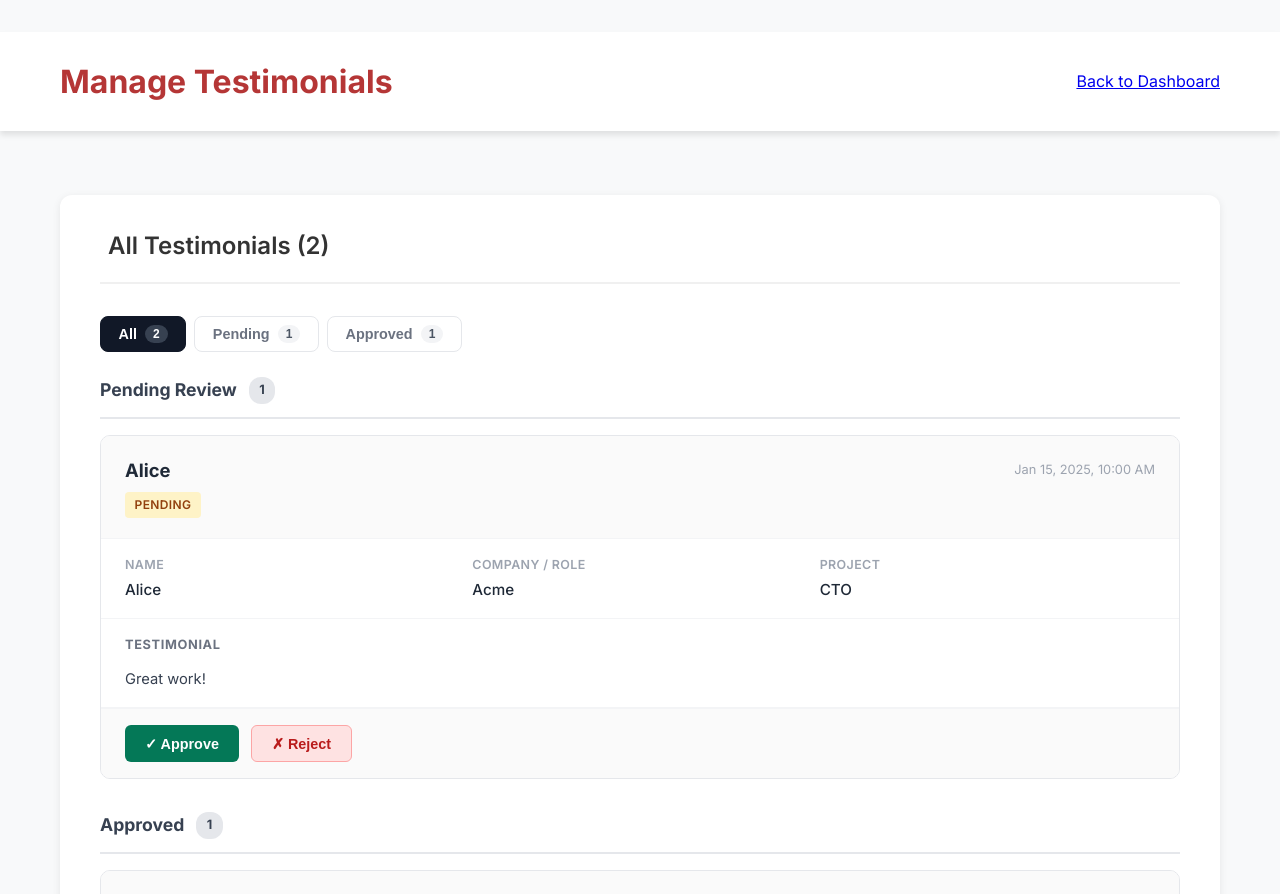
AdminTestimonials › handles reject error
The width and height of the screenshot is (1280, 894).
Click the button "✗ Reject" at (302, 744), box [251,725,352,762]
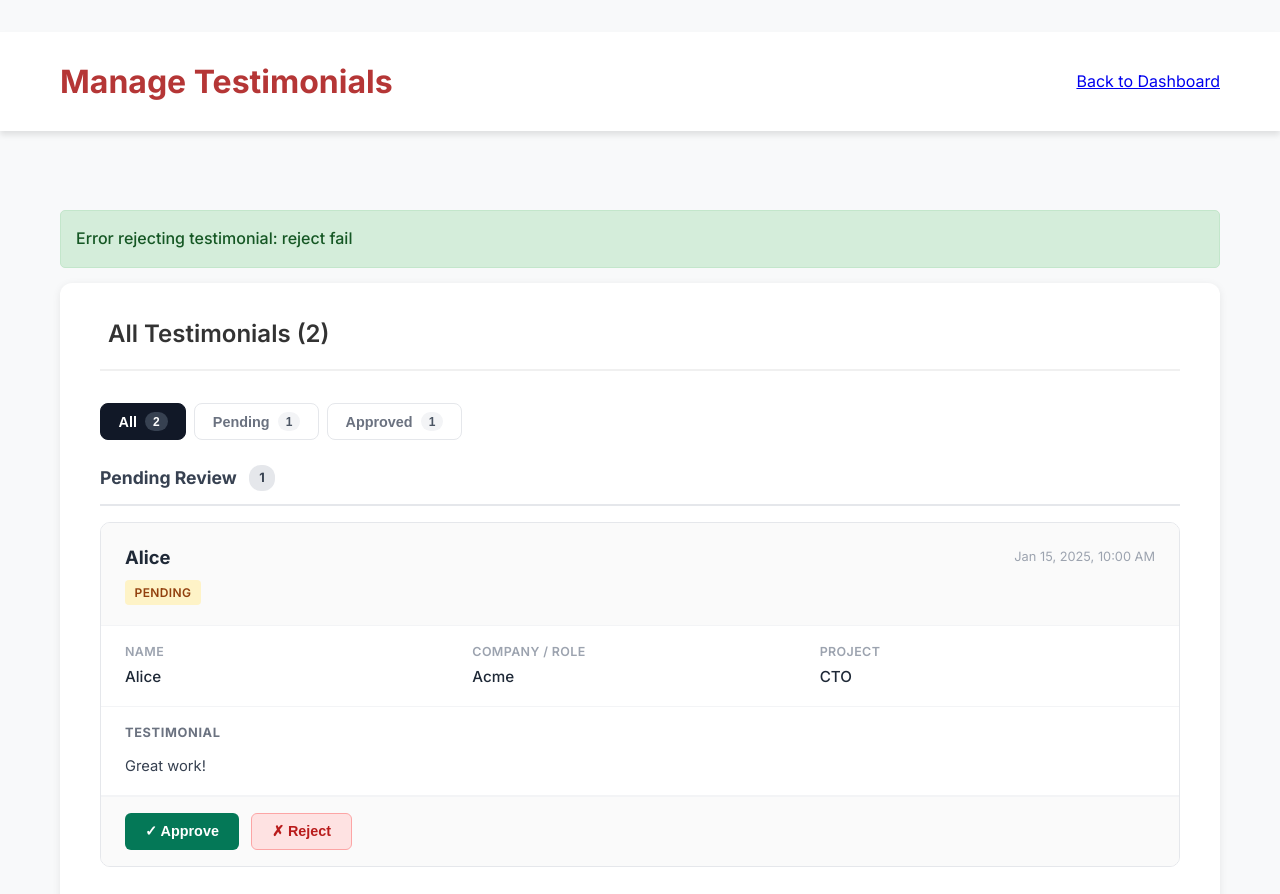
Expected: the text "Error rejecting testimonial: reject fail" is shown, [60,210,1220,268]
